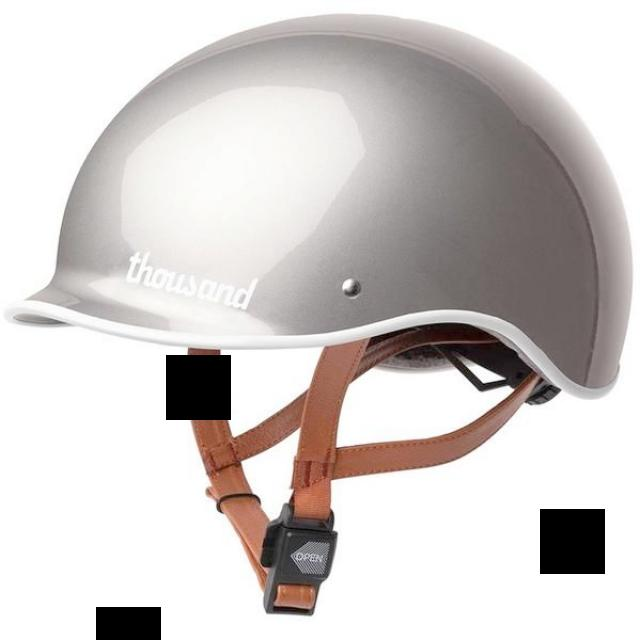Helmet: (6, 11, 635, 401)
